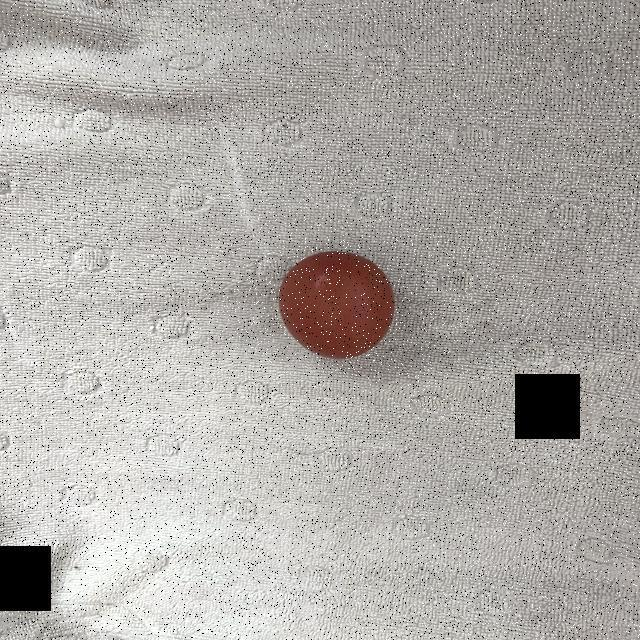egg: (275, 250, 402, 364)
